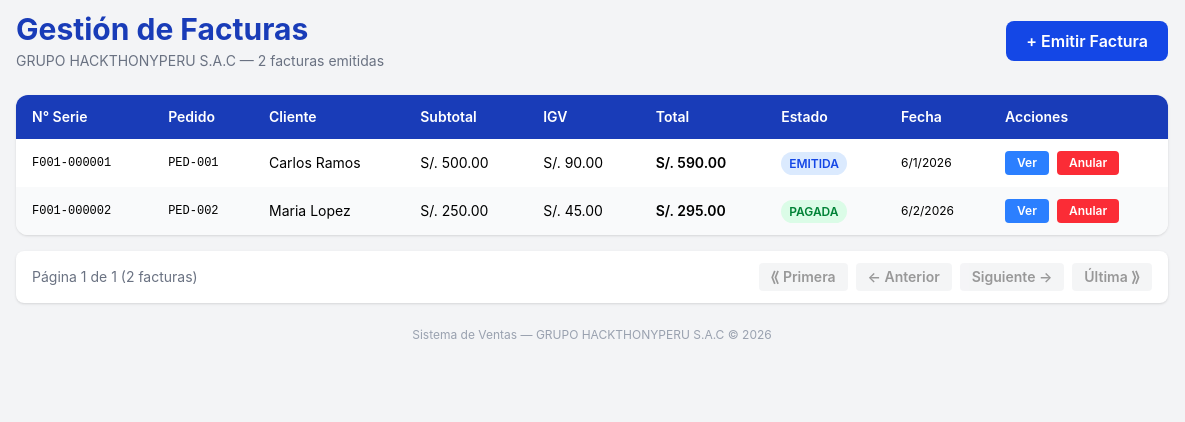
Test case: Componente Facturas - Pruebas Unitarias › Debe anular una factura tras confirmar
Expected: the text "F001-000001" is shown, [16,139,152,187]
What coordinates should you click on to do the following:
click the button "Anular" in the row of "F001-000001"
I would click on:
 (1088, 163)
Its box is [1057,151,1119,175].
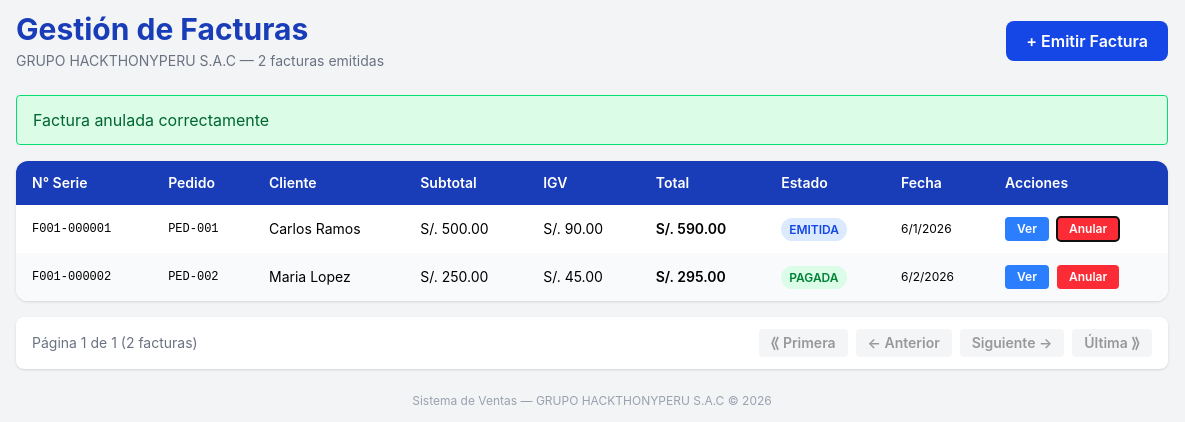
Result: the text "Factura anulada correctamente" is shown at [16,95,1168,145]
